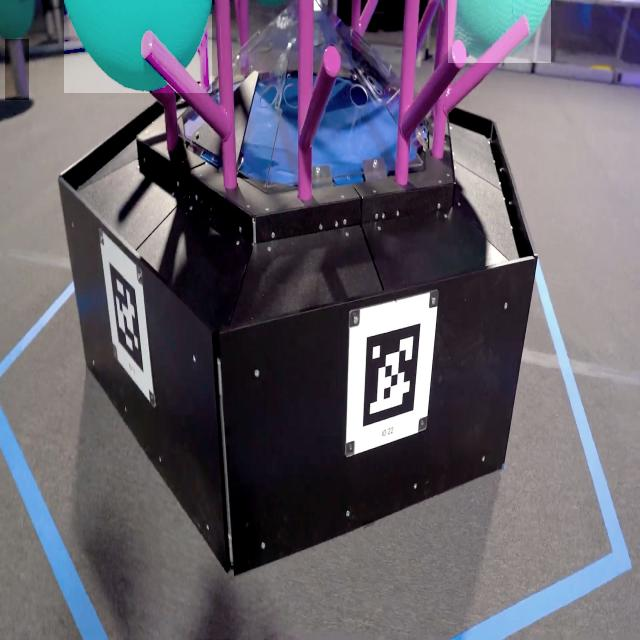Algae: (64, 0, 212, 93), (448, 0, 551, 63), (0, 0, 36, 39)
Coral: (5, 39, 29, 100)
